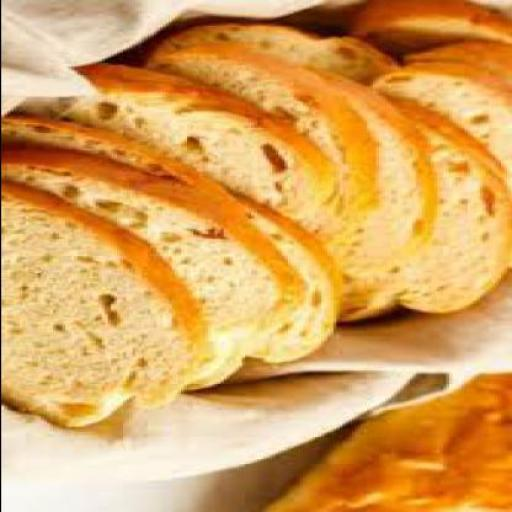biodegradable: (2, 109, 344, 360), (3, 141, 305, 389), (52, 64, 344, 250), (3, 179, 222, 425), (143, 41, 381, 253), (338, 92, 511, 322), (266, 370, 512, 511), (314, 62, 439, 264), (146, 20, 399, 77), (343, 0, 511, 57), (399, 37, 511, 90)
